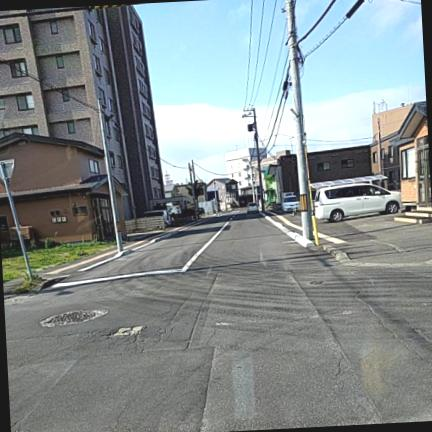Road: (4, 212, 431, 431)
